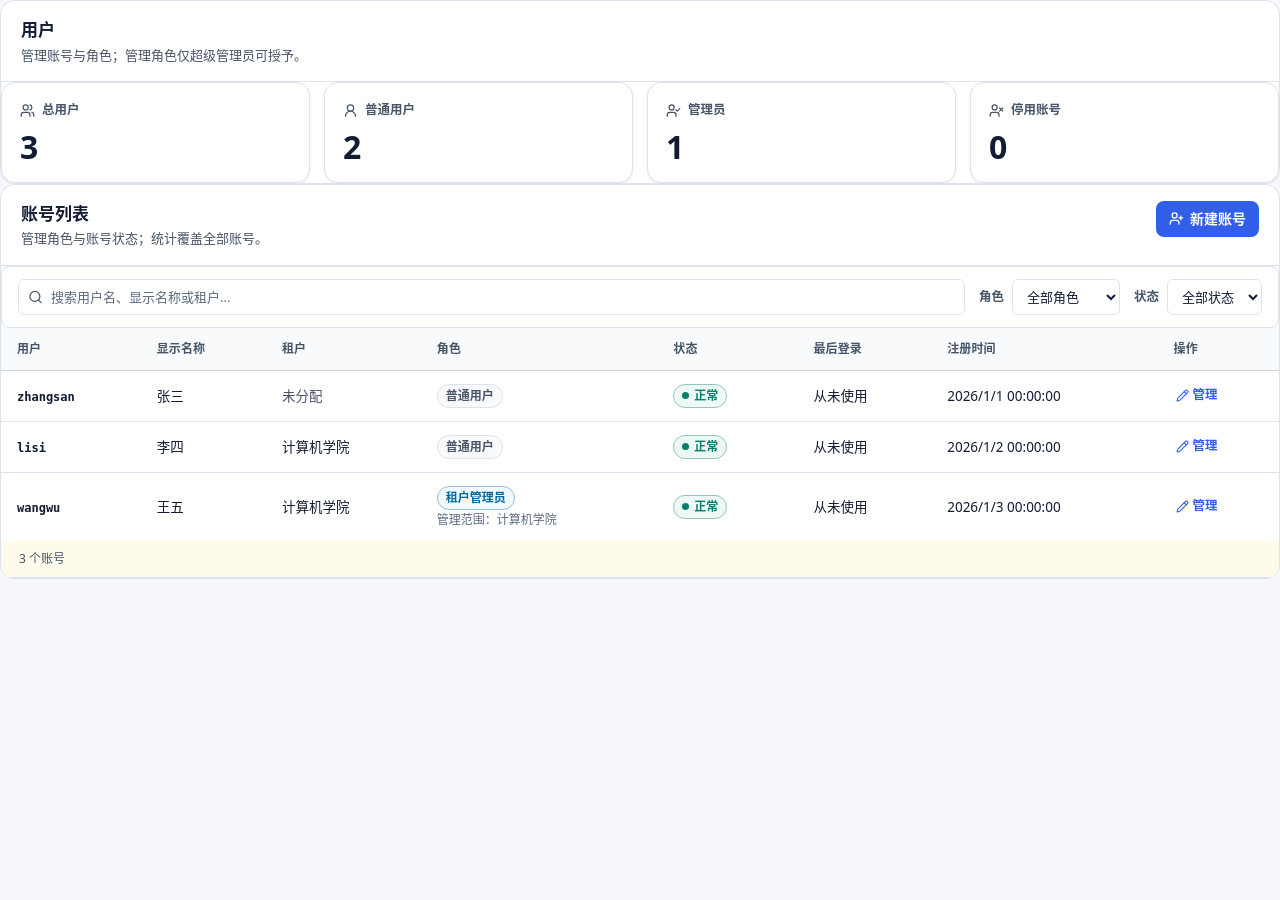
Test: UsersPage Tenant Membership › surfaces the owned-key count when the gateway refuses the assignment
Click the button "管理" in the row of "zhangsan" at point(1196, 396), box [1174,384,1220,407]
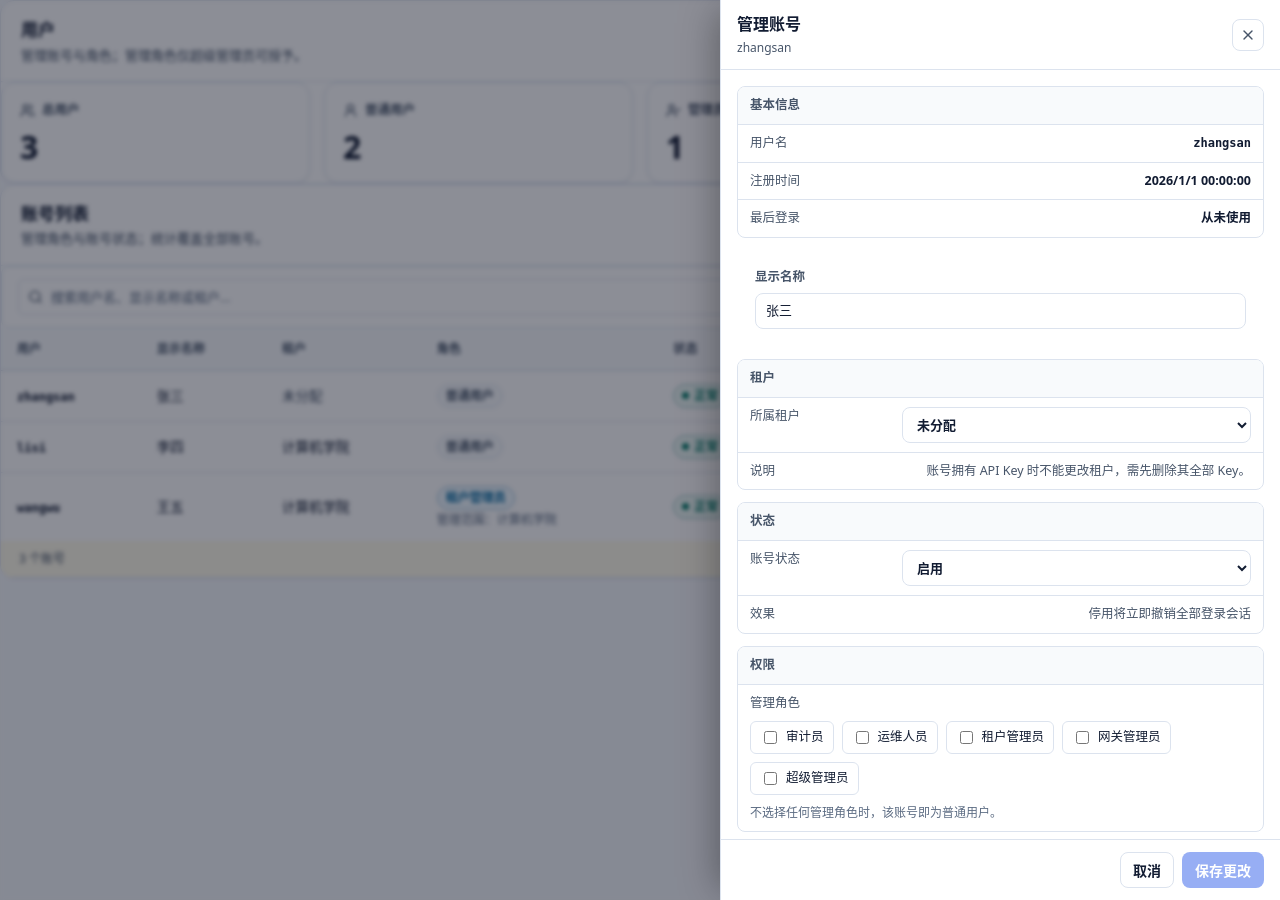
Select "计算机学院（cs-dept）" in the dropdown next to "所属租户" at point(1076, 424), box [902,406,1251,442]
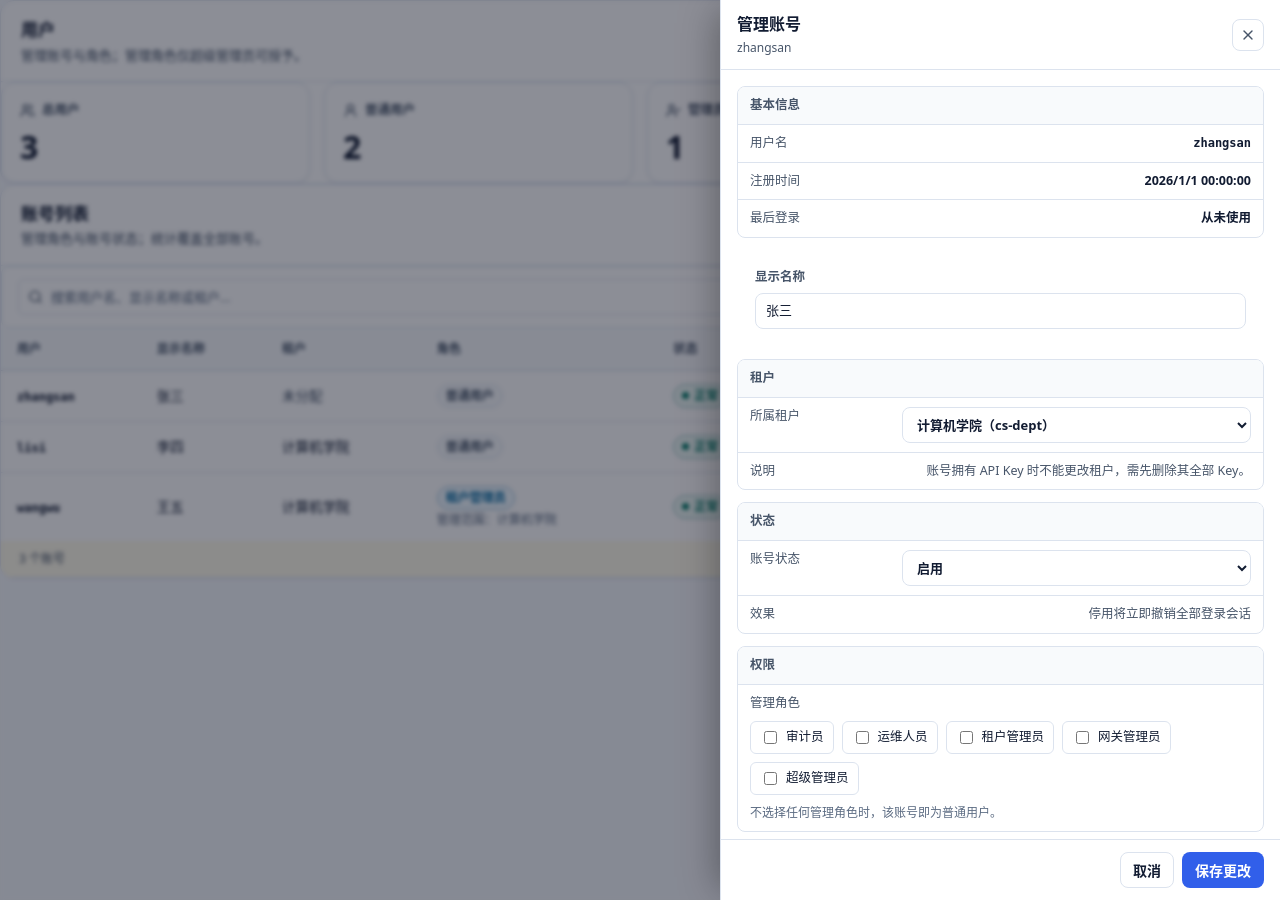
Click the button "保存更改" at point(1223, 870), box [1182,852,1264,888]
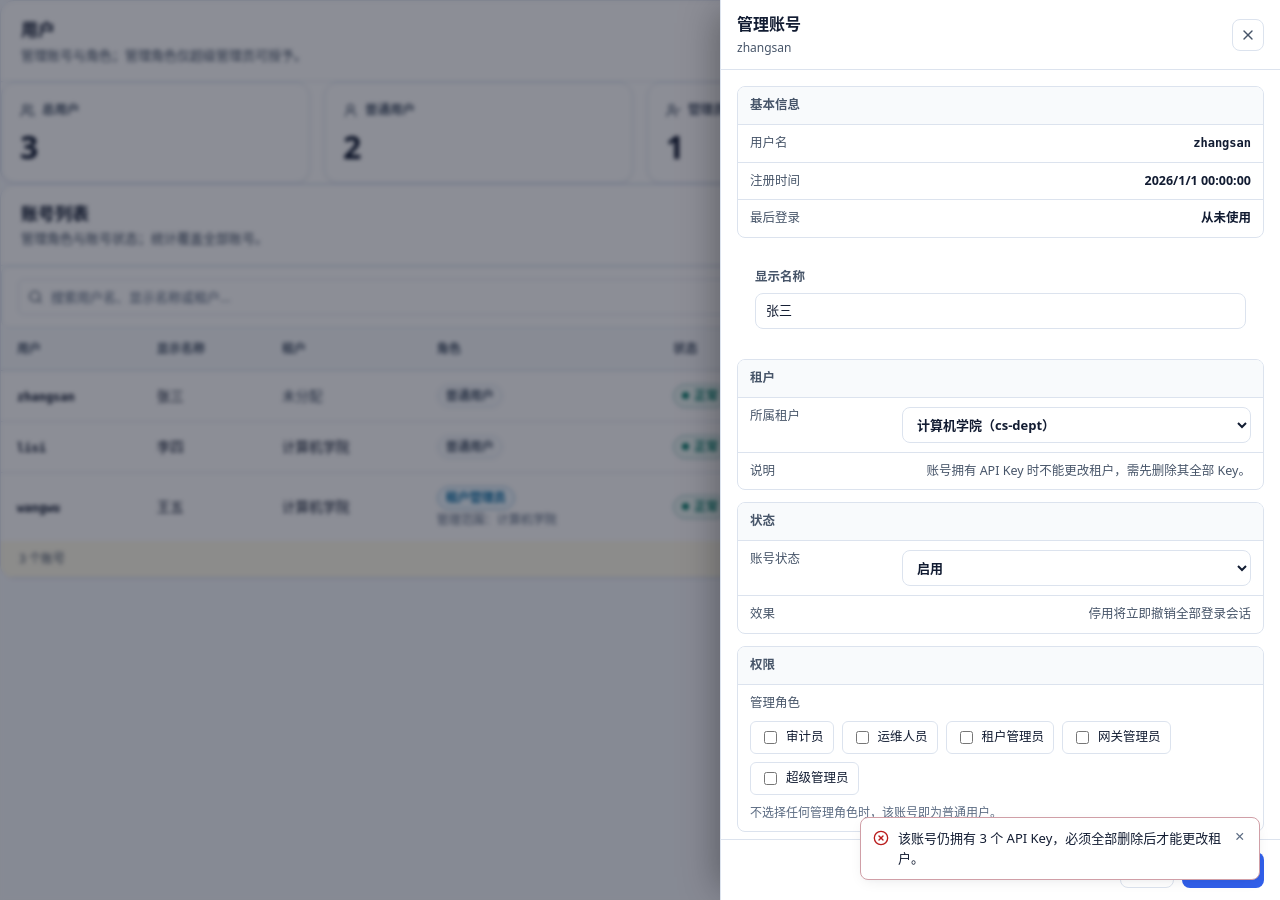
Expected: the text "该账号仍拥有 3 个 API Key，必须全部删除后才能更改租户。" is shown, [898,829,1224,868]
